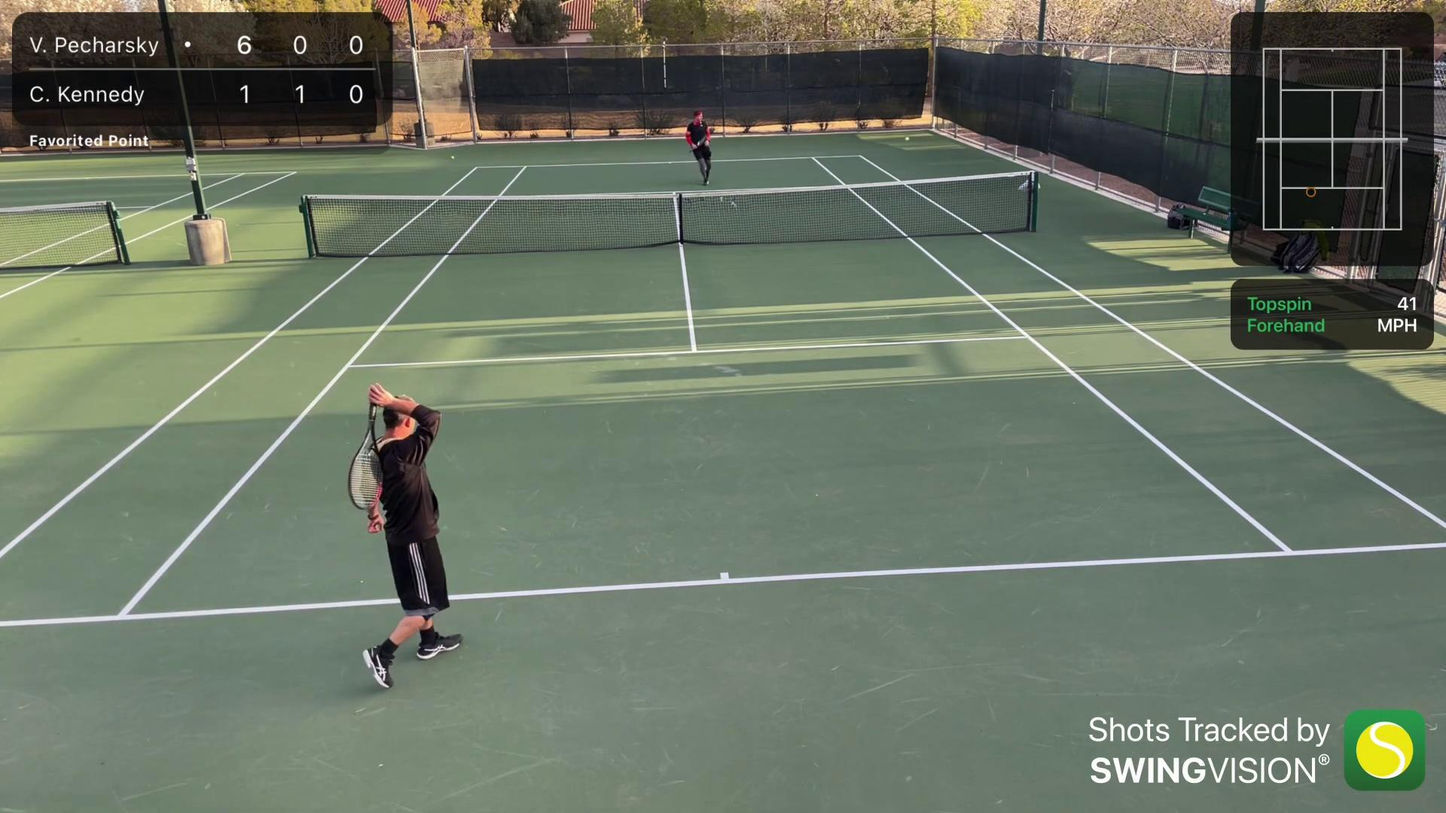ball: (904, 136, 911, 142), (449, 154, 456, 160)
